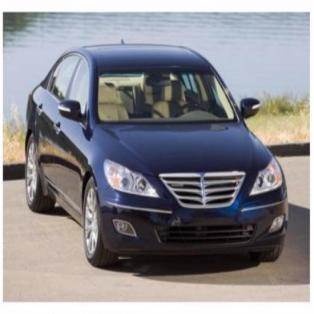Auto: (24, 39, 288, 272)
